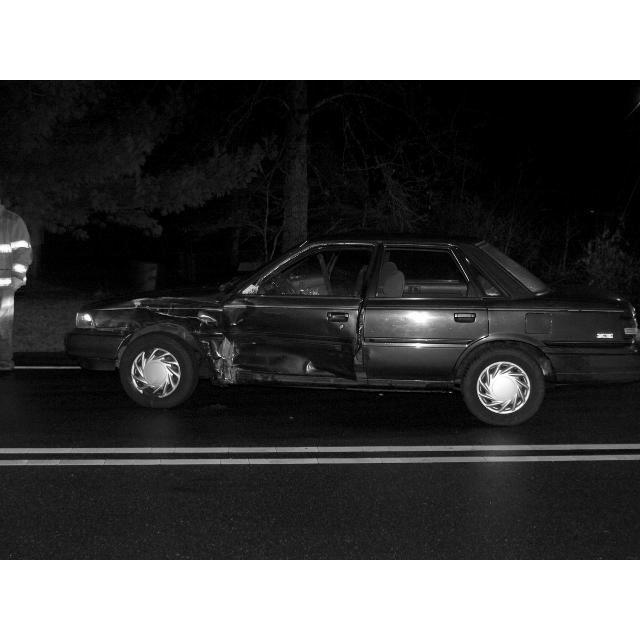doorouter-dent: (231, 298, 361, 391)
fender-dent: (111, 303, 226, 355)
